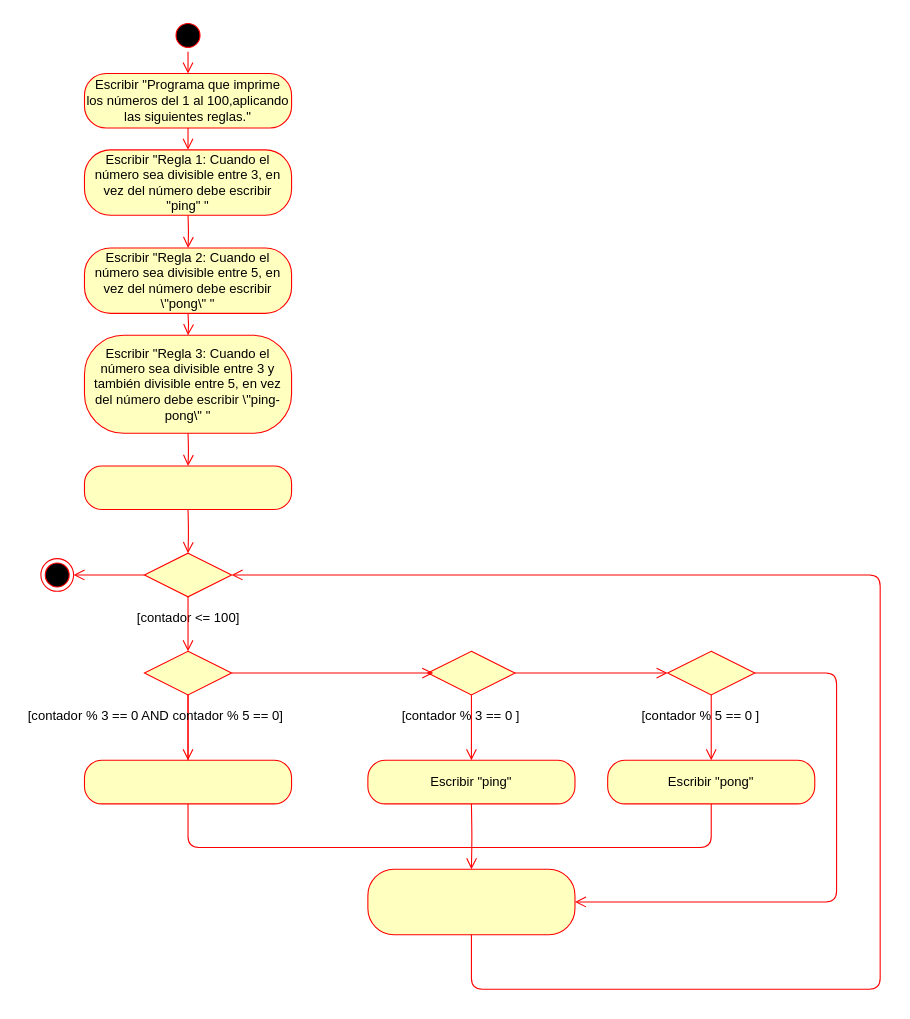
Some shapes in this 910 by 1019 pixel diagram are drawn without their labels. Here are the shapes that lost their labels. From the top down, the centre of each, then its label:
point 187,487: contador = 1
point 187,781: Escribir "ping-pong"
point 471,901: contador = contador + 1
